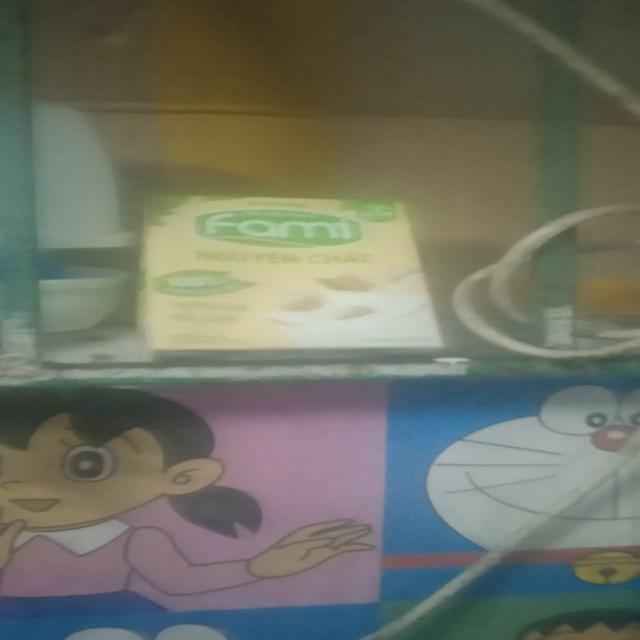Fami: (141, 197, 443, 367)
